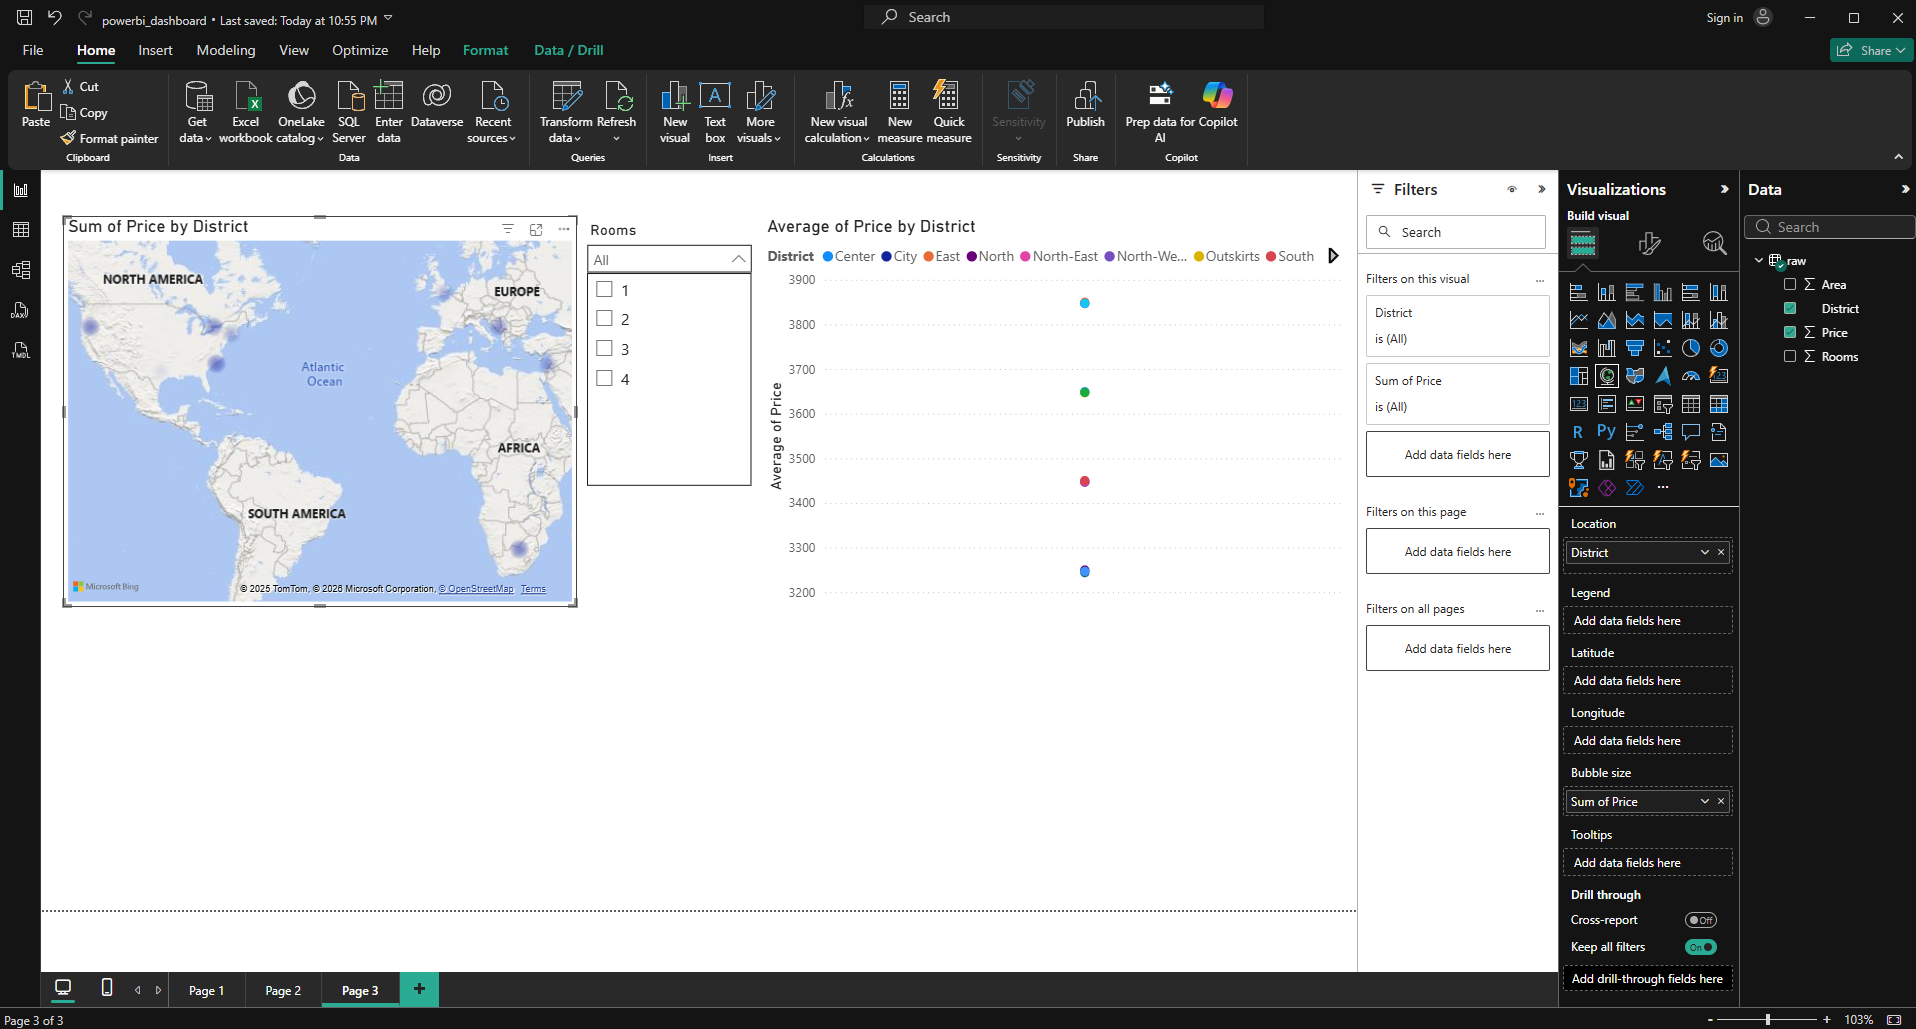

Layout of this report page (visuals, bound fields, positions):
{"tool":"powerbi","page":{"name":"Page 3","canvas":[1280,720],"ordinal":2},"visuals":[{"type":"slicer","fields":{"Values":["raw.Rooms"]},"box":[521.3,44.7,179.9,380.3],"z":0},{"type":"lineChart","title":"Average of Price by District","fields":{"Y":["Avg(raw.Price)"],"Series":["raw.District"]},"box":[701.3,44.7,570.9,380.3],"z":1},{"type":"map","fields":{"Category":["raw.District"],"Size":["Sum(raw.Price)"]},"box":[21.4,44.7,499.9,380.3],"z":2}]}

Visuals, with their boxes on the page's 1280x720 design canvas (x1, y1, x2, y2). These are canvas units, not pixel positions in the 1916x1029 screenshot, which may show the page scaled, cropped or inside an application window:
slicer - raw.Rooms: 521/45/701/425
"Average of Price by District" lineChart: 701/45/1272/425
map - raw.District x Sum(raw.Price): 21/45/521/425
